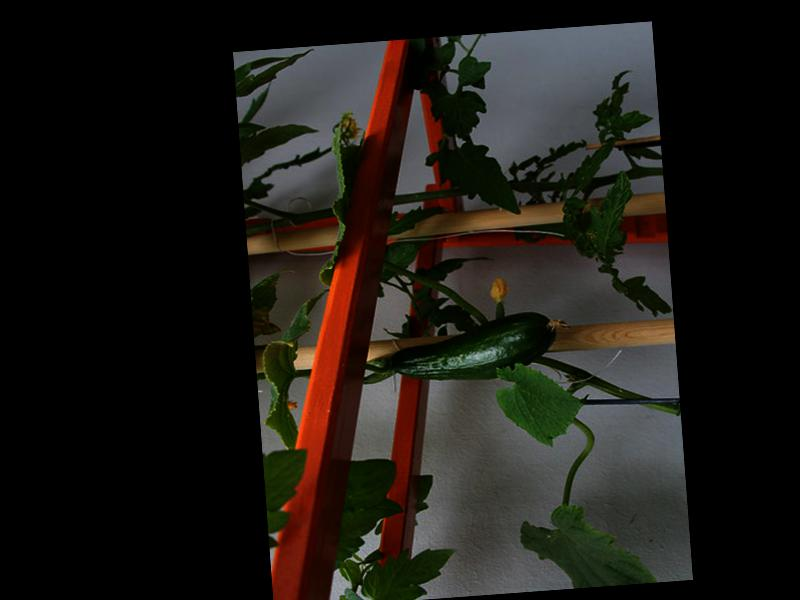Cucumber: (388, 309, 570, 385)
